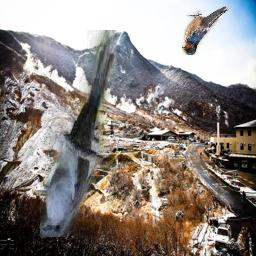Cuckoo: (41, 31, 118, 238)
Swallow: (183, 7, 230, 56)
